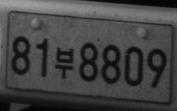0: (123, 44, 144, 87)
1: (33, 37, 53, 78)
8: (77, 41, 99, 82), (99, 43, 121, 84), (9, 34, 30, 75)
9: (146, 47, 168, 88)
부: (54, 46, 74, 80)
